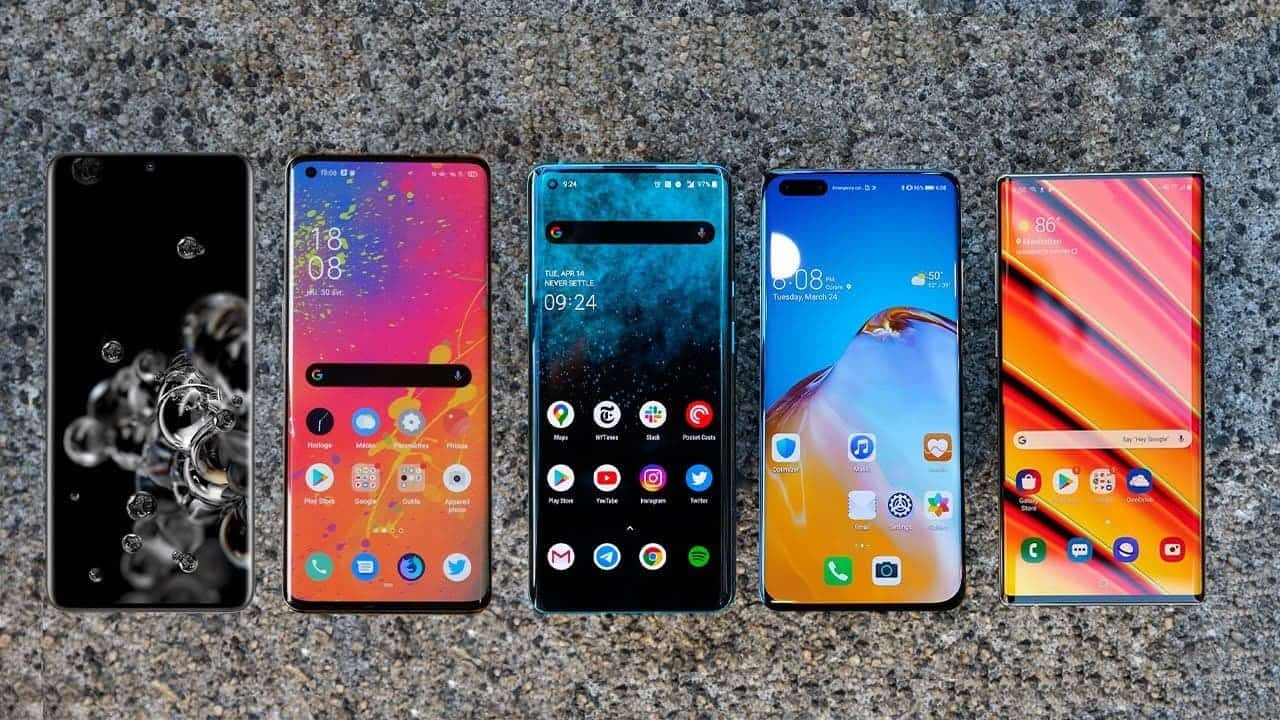phones: (988, 156, 1225, 627), (37, 142, 262, 624), (747, 161, 980, 625), (278, 148, 503, 626), (518, 157, 742, 620)
